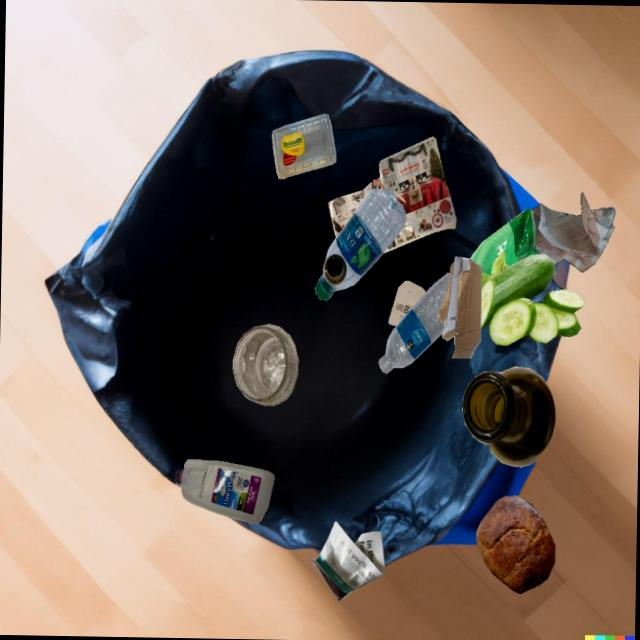biowaste: (480, 251, 584, 345), (476, 495, 555, 594)
cardboard: (438, 255, 482, 358)
glass: (462, 366, 556, 467), (233, 323, 298, 405), (323, 253, 347, 284)
paper: (328, 136, 456, 253), (530, 191, 615, 272), (310, 521, 385, 601), (388, 280, 425, 326)
plastic: (314, 188, 406, 300), (378, 272, 450, 373), (176, 459, 274, 523), (470, 208, 539, 276), (271, 113, 336, 178)
